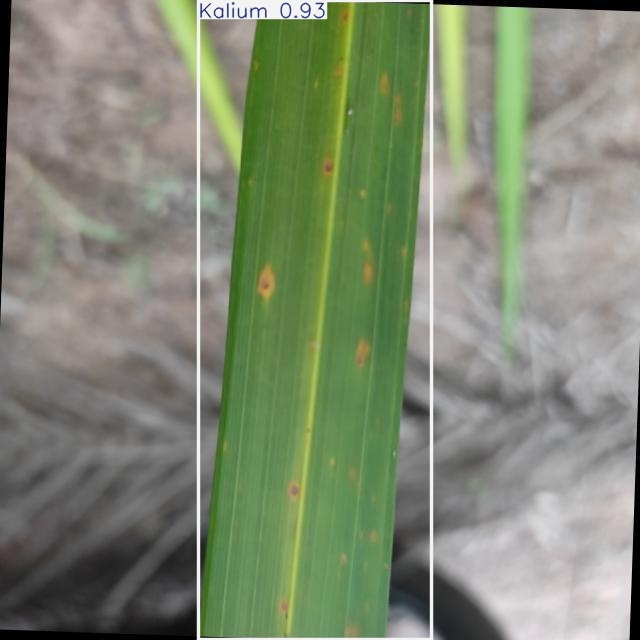Kalium: (198, 0, 431, 639)
